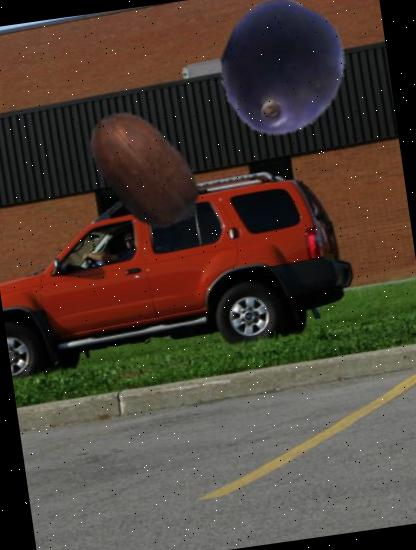Nut: (68, 92, 224, 246)
Plum: (204, 0, 360, 146)
